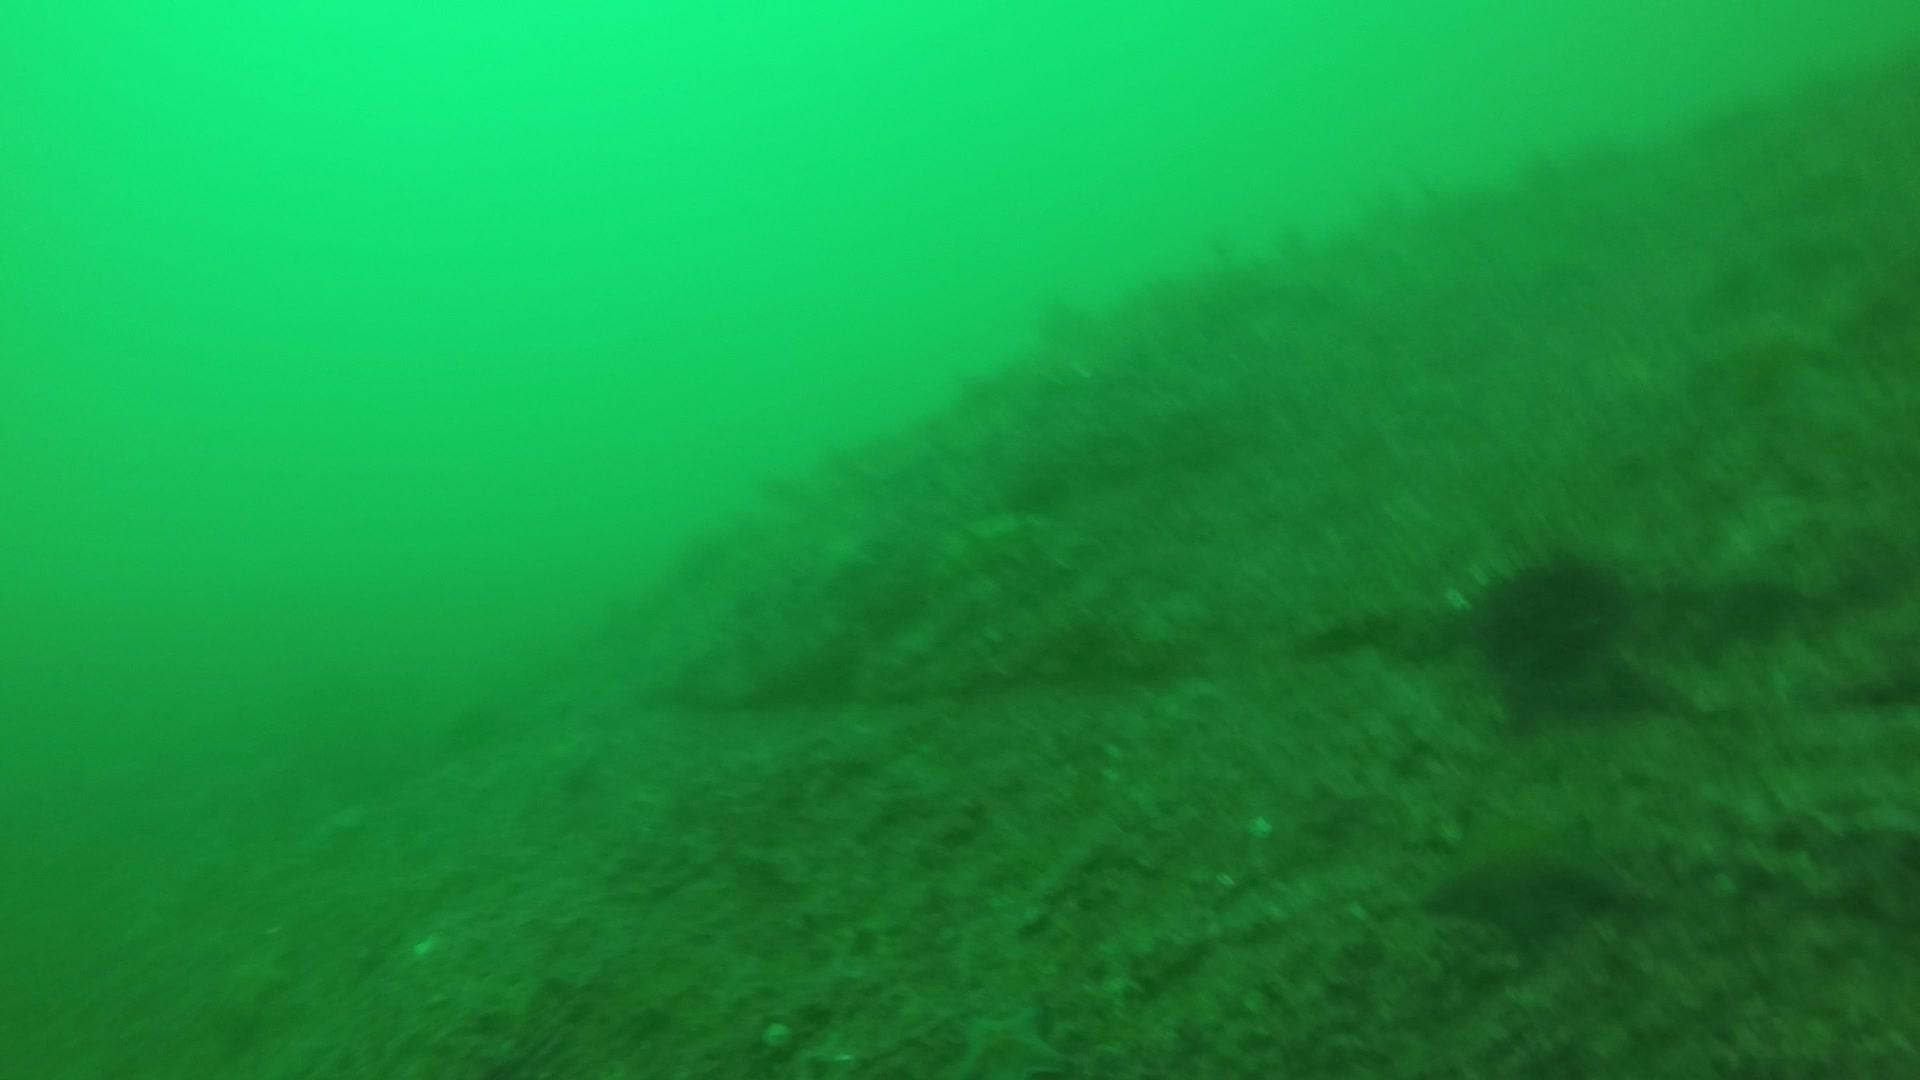echinus: (1466, 542, 1636, 694)
starfish: (1414, 783, 1642, 955), (942, 990, 1073, 1077)
